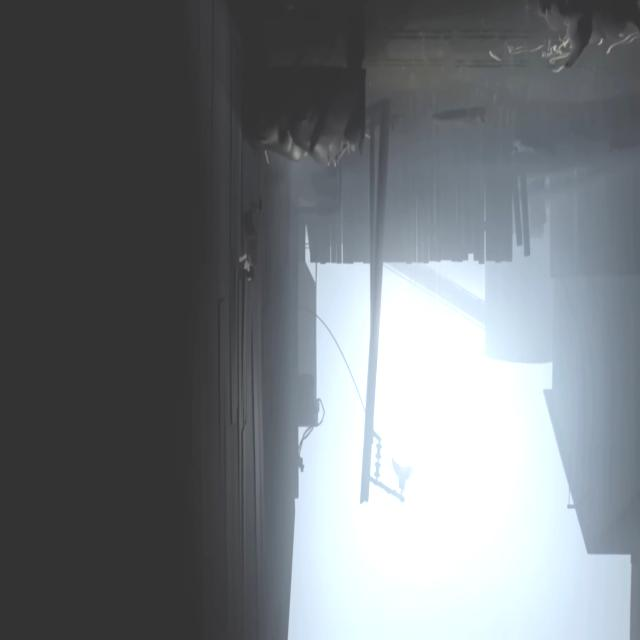boy: (239, 196, 256, 282)
